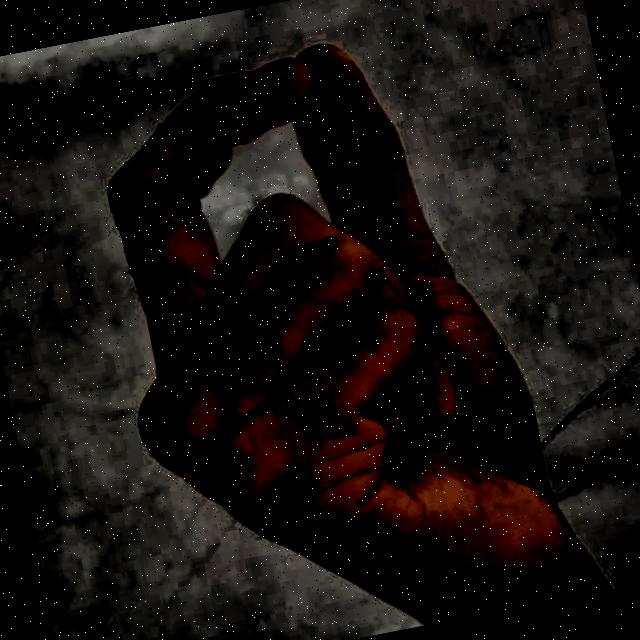Gha: (29, 0, 628, 640)
